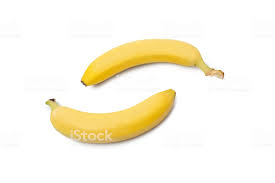banana: (44, 89, 176, 146), (79, 38, 226, 87)
